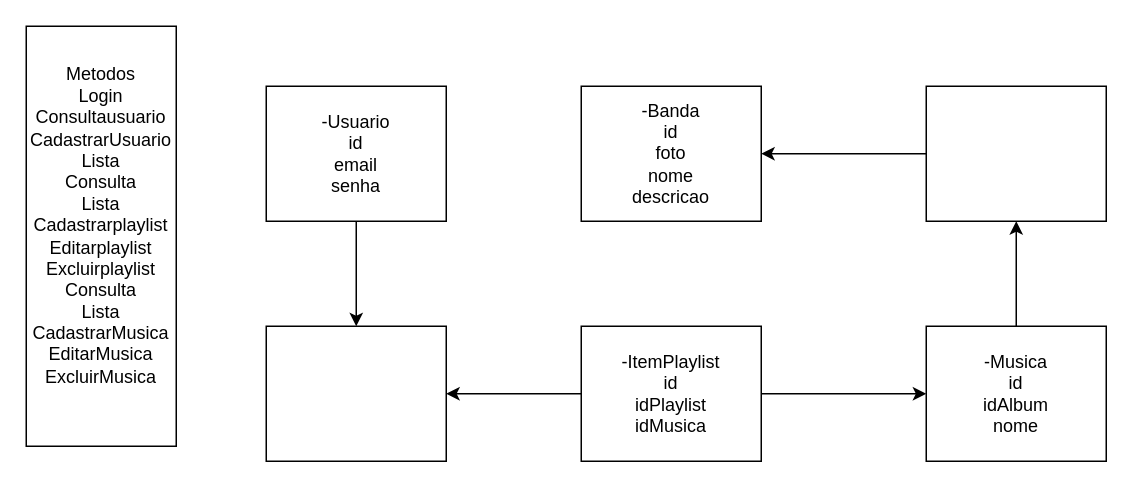
This 1133x488 diagram has some shape labels left out. Each missing label, with the box of its shape:
-Album id idBanda nome: (925, 85, 1106, 221)
-Playlist id idusuario nome: (265, 325, 446, 461)
